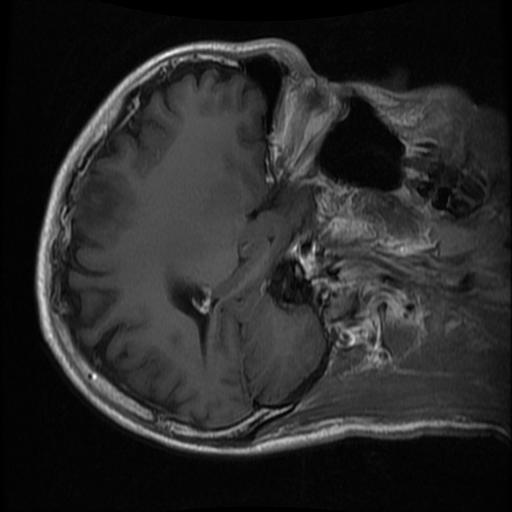glioma: (76, 167, 133, 241)
